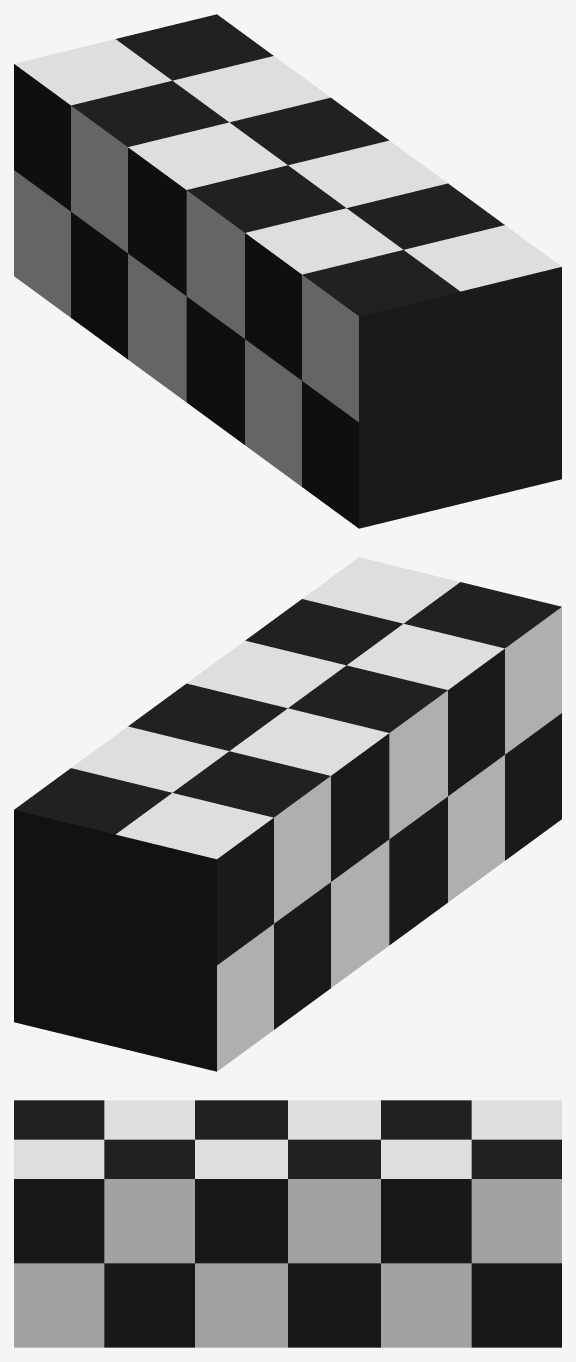
The model's file is FinishLine.fbx.
The picture shows the model from 3 angles, top to bottom: view 1: azimuth 30°, elevation 25°; view 2: azimuth 150°, elevation 25°; view 3: azimuth 270°, elevation 25°; orthographic projection. The views are drawn at different scales.
Visible parts, largest first — view 1: FinishLine; view 2: FinishLine; view 3: FinishLine.
Part boxes in pixels (x1,y1,x2,y2): FinishLine: [14, 14, 561, 528]; FinishLine: [14, 557, 561, 1071]; FinishLine: [14, 1100, 561, 1347].
Size of the model in its own units: 200 by 200 by 589.
